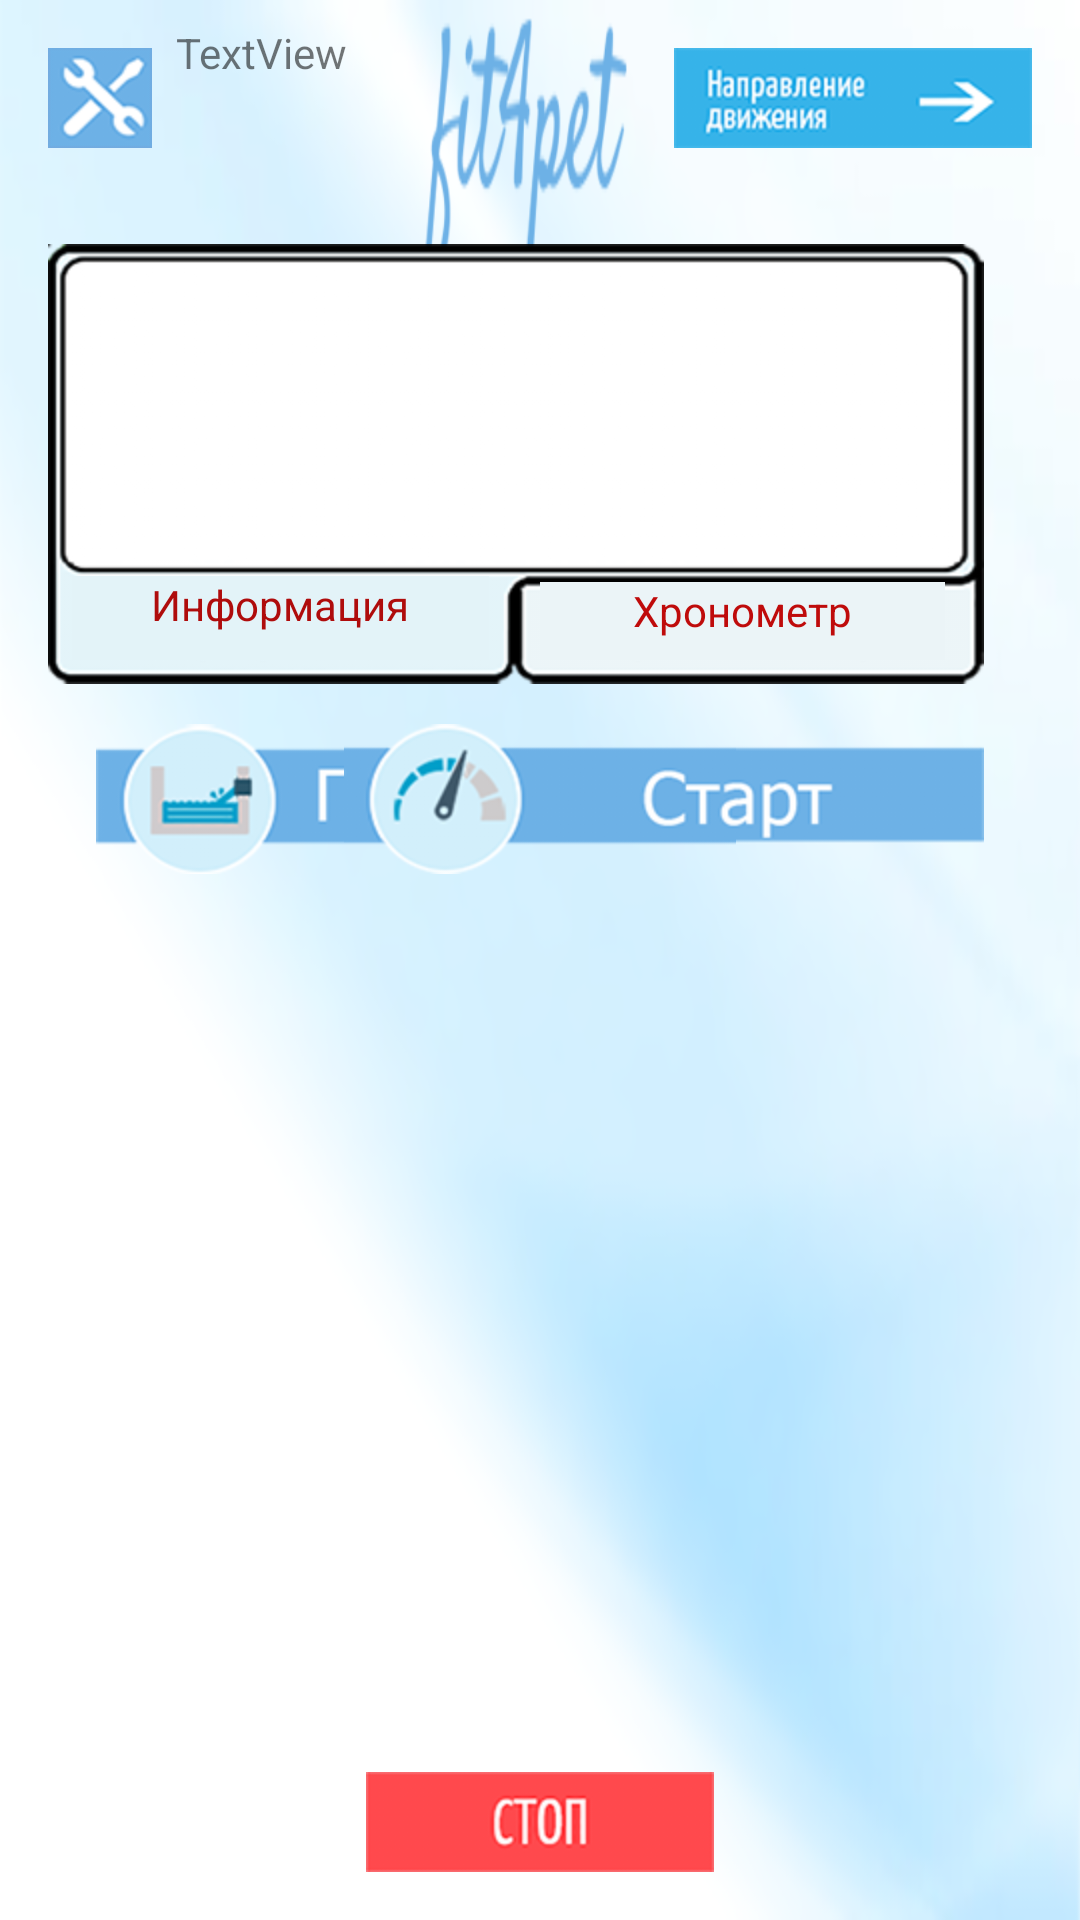

Locate icon controls on the screen. Image size 1080*1920, boxes as (x1, y1, x2, y2).
Сервисная кнопка: (48, 48, 152, 148)
